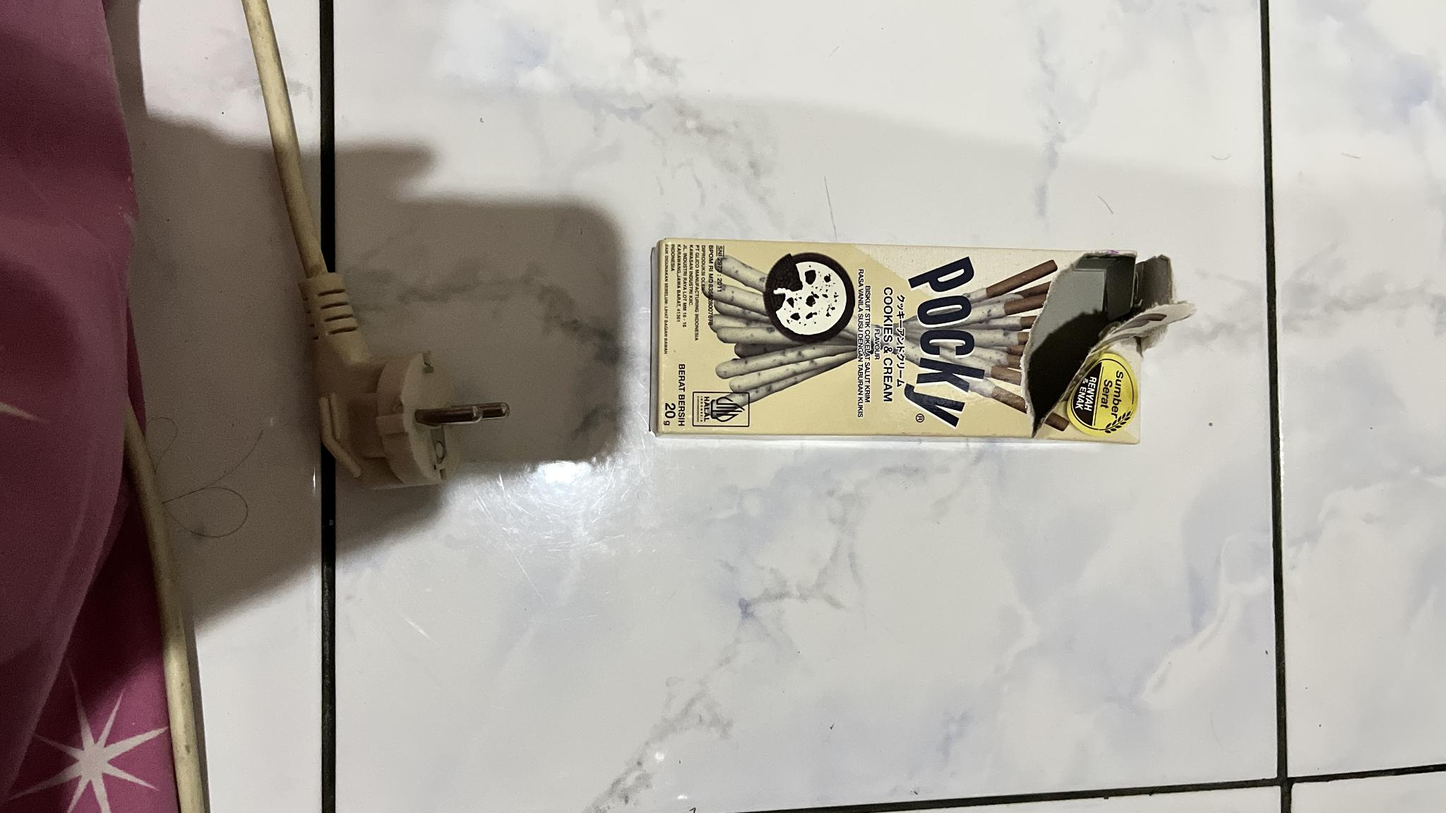Kertas: (656, 238, 1140, 441)
